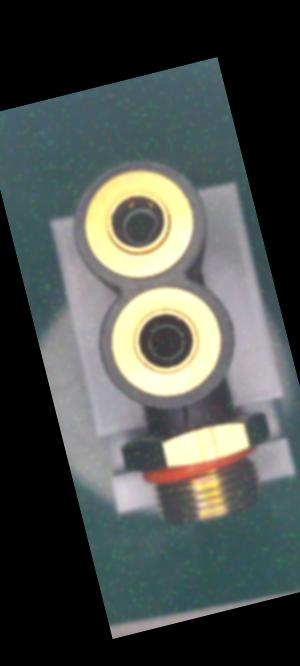craze: (178, 405, 196, 435)
off-centered: (113, 198, 168, 254)
